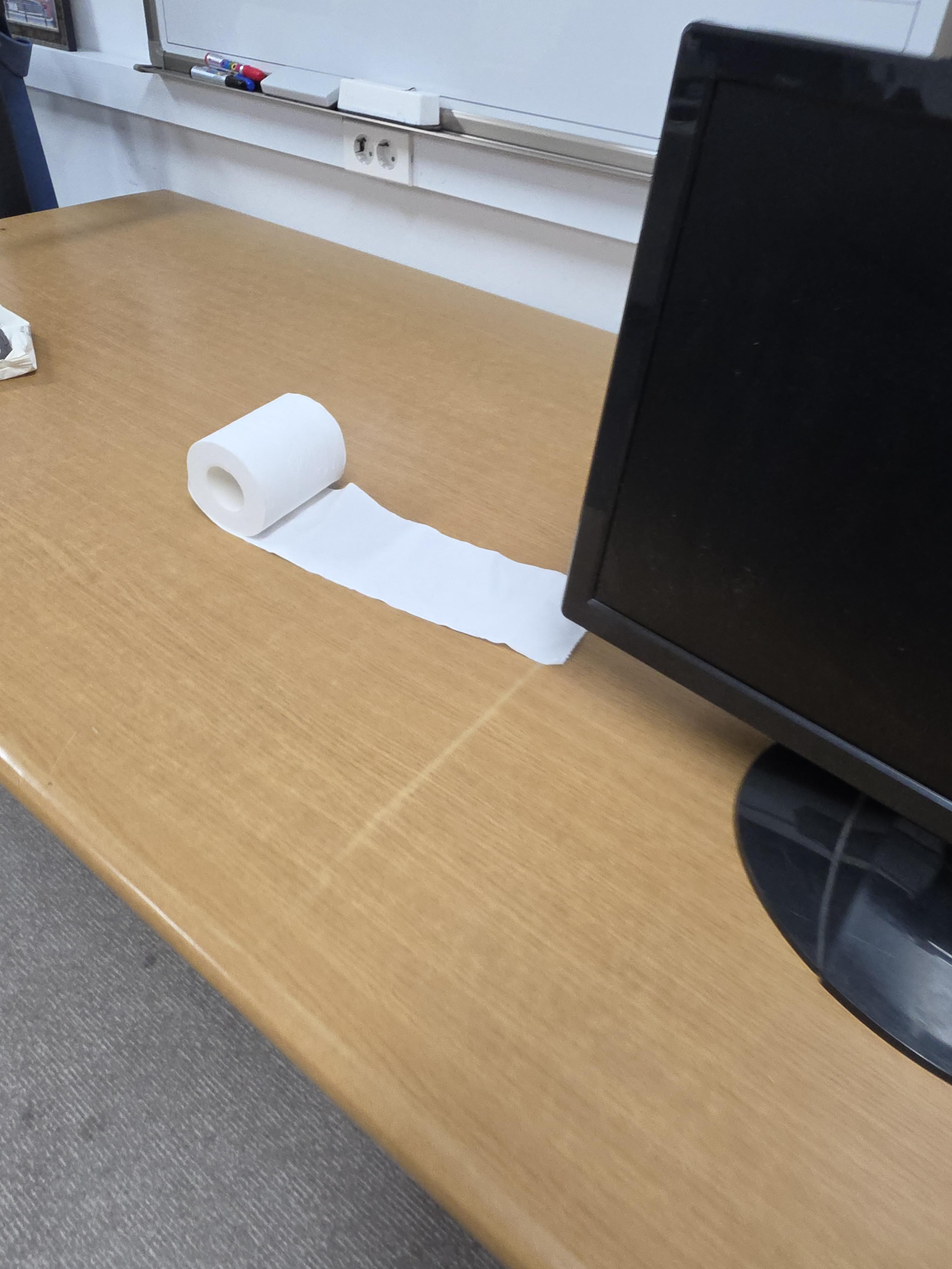tissue: (186, 392, 586, 666)
